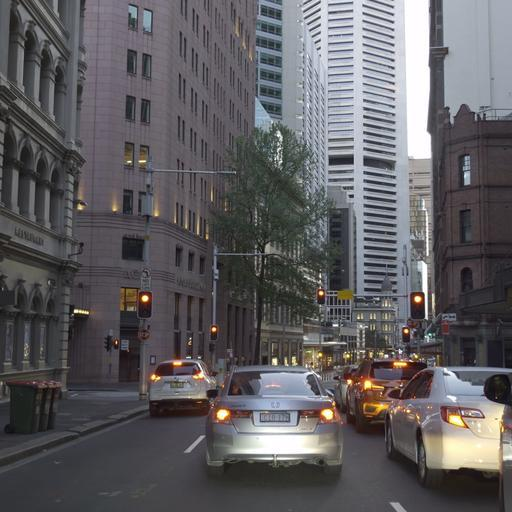Street light: (135, 157, 237, 399), (209, 246, 281, 368), (136, 290, 152, 318), (409, 291, 425, 319), (72, 198, 87, 209), (316, 287, 325, 304), (401, 326, 410, 342), (209, 324, 218, 340)
